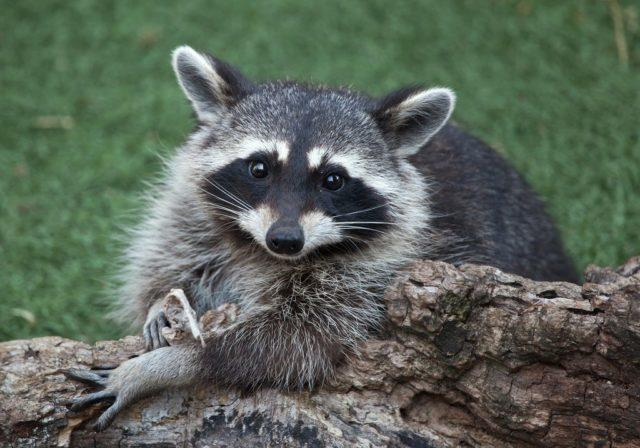raccoon: (67, 42, 581, 433)
